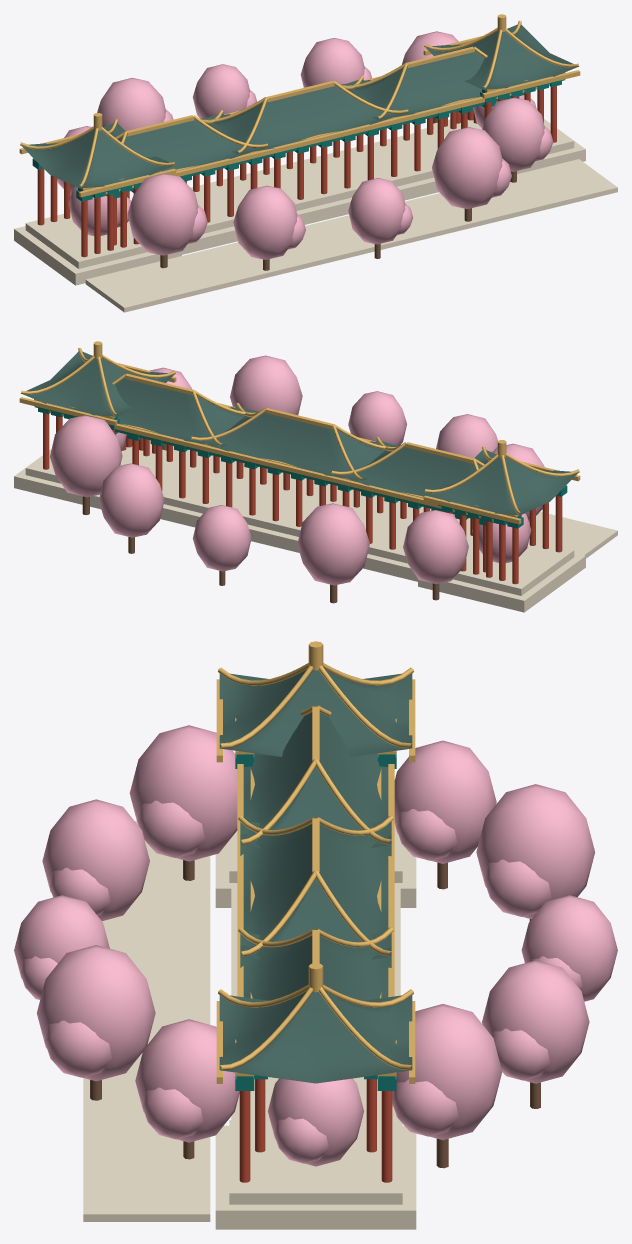
Rendered from colonnade.glb.
3 renders of one model, top to bottom at view 1: azimuth 30°, elevation 25°; view 2: azimuth 150°, elevation 25°; view 3: azimuth 270°, elevation 25°, orthographic. The views are drawn at different scales.
Size of the model in its own units: 4.55 by 1.15 by 2.86.
